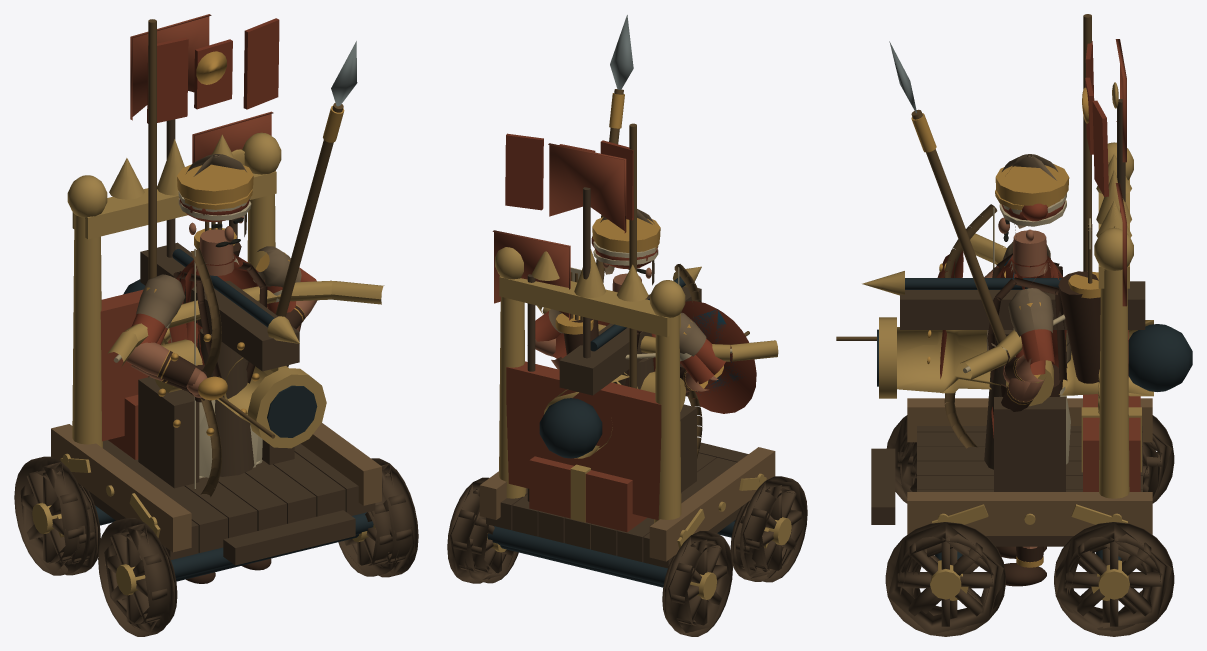
Rendered from army-vehicles.glb.
The picture shows the model from 3 angles, left to right: view 1: azimuth 30°, elevation 25°; view 2: azimuth 150°, elevation 25°; view 3: azimuth 270°, elevation 25°; orthographic projection. The views are drawn at different scales.
Visible parts, largest first — view 1: sun_royal_chariot, sun_cannon_cart, sun_spearman, sun_commander, sun_bow_guard, sun_cannon_cart_lod, sun_royal_chariot_lod, sun_spearman_lod, sun_bow_guard_lod; view 2: sun_royal_chariot, sun_cannon_cart, sun_spearman, sun_commander, sun_royal_chariot_lod, sun_bow_guard, sun_spearman_lod, sun_cannon_cart_lod, sun_commander_lod, moon_spearman_lod; view 3: sun_cannon_cart, sun_royal_chariot, sun_spearman, sun_royal_chariot_lod, sun_bow_guard, sun_commander, sun_cannon_cart_lod, sun_spearman_lod.
Part boxes in pixels (x1=…): sun_royal_chariot: x1=14, y1=14, x2=418, y2=636; sun_cannon_cart: x1=32, y1=111, x2=399, y2=631; sun_spearman: x1=126, y1=41, x2=357, y2=583; sun_commander: x1=147, y1=18, x2=279, y2=377; sun_bow_guard: x1=131, y1=221, x2=301, y2=496; sun_cannon_cart_lod: x1=40, y1=338, x2=398, y2=631; sun_royal_chariot_lod: x1=20, y1=328, x2=415, y2=633; sun_spearman_lod: x1=133, y1=107, x2=340, y2=478; sun_bow_guard_lod: x1=183, y1=198, x2=257, y2=347; sun_royal_chariot: x1=447, y1=143, x2=807, y2=636; sun_cannon_cart: x1=464, y1=230, x2=791, y2=631; sun_spearman: x1=535, y1=15, x2=756, y2=413; sun_commander: x1=505, y1=123, x2=660, y2=388; sun_royal_chariot_lod: x1=450, y1=187, x2=804, y2=632; sun_bow_guard: x1=551, y1=264, x2=749, y2=458; sun_spearman_lod: x1=594, y1=94, x2=756, y2=413; sun_cannon_cart_lod: x1=465, y1=275, x2=783, y2=625; sun_commander_lod: x1=598, y1=301, x2=756, y2=413; moon_spearman_lod: x1=693, y1=309, x2=742, y2=392; sun_cannon_cart: x1=871, y1=183, x2=1192, y2=631; sun_royal_chariot: x1=862, y1=39, x2=1174, y2=636; sun_spearman: x1=889, y1=41, x2=1071, y2=586; sun_royal_chariot_lod: x1=887, y1=99, x2=1172, y2=634; sun_bow_guard: x1=836, y1=204, x2=1100, y2=448; sun_commander: x1=995, y1=14, x2=1108, y2=271; sun_cannon_cart_lod: x1=897, y1=320, x2=1157, y2=630; sun_spearman_lod: x1=912, y1=112, x2=1064, y2=548.
Size of the model in its own units: 1.36 by 2.6 by 1.48.
